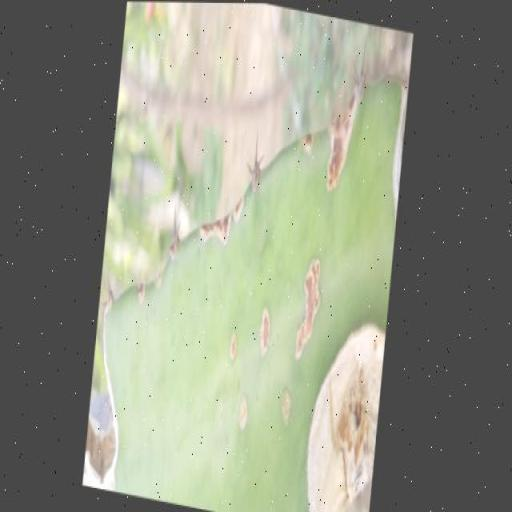stemcanker: (147, 218, 183, 255), (190, 196, 216, 228), (156, 302, 183, 330), (306, 312, 324, 342)
